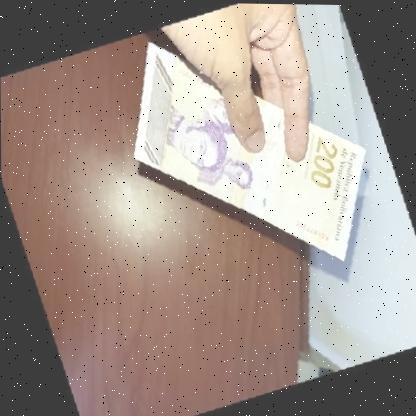two_hundred-front-vef: (107, 1, 389, 300)
